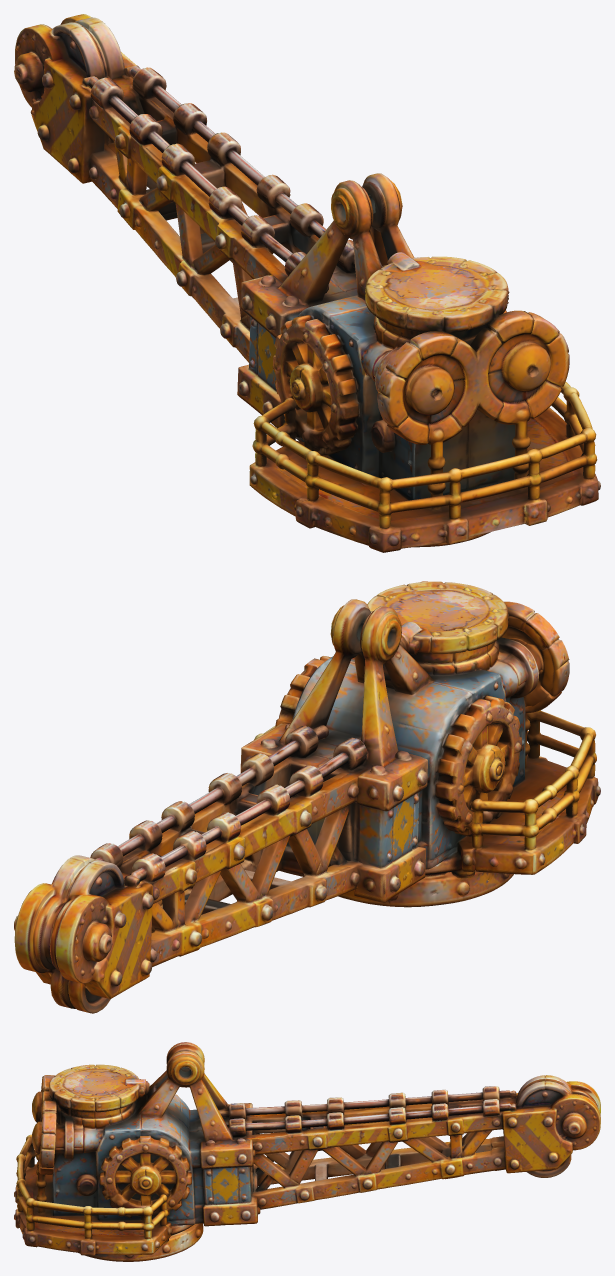
The model's file is Starwish_Junkyard_LM03_B_Boom.glb.
3 renders of one model, top to bottom at view 1: azimuth 30°, elevation 25°; view 2: azimuth 150°, elevation 25°; view 3: azimuth 270°, elevation 25°, orthographic. The views are drawn at different scales.
Parts seen in each view (by area): view 1: tripo_node_b46236df-e42a-4fc5-8638-3d58d4d206ec; view 2: tripo_node_b46236df-e42a-4fc5-8638-3d58d4d206ec; view 3: tripo_node_b46236df-e42a-4fc5-8638-3d58d4d206ec.
Boxes of the visible parts, x1=… form: tripo_node_b46236df-e42a-4fc5-8638-3d58d4d206ec: x1=14, y1=14, x2=600, y2=552; tripo_node_b46236df-e42a-4fc5-8638-3d58d4d206ec: x1=14, y1=581, x2=600, y2=1013; tripo_node_b46236df-e42a-4fc5-8638-3d58d4d206ec: x1=14, y1=1042, x2=600, y2=1261.
Size of the model in its own units: 0.3627 by 0.3443 by 0.9793.
Materials: 1 (1 with a texture image).
